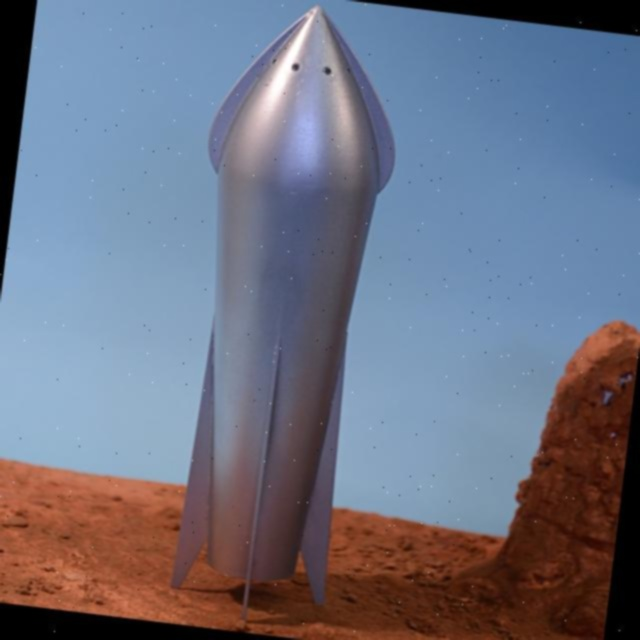rocket: (156, 0, 427, 623)
